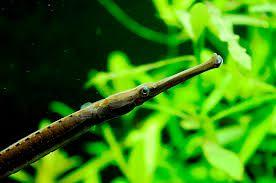Long-Snouted Pipefish: (0, 53, 225, 183)
